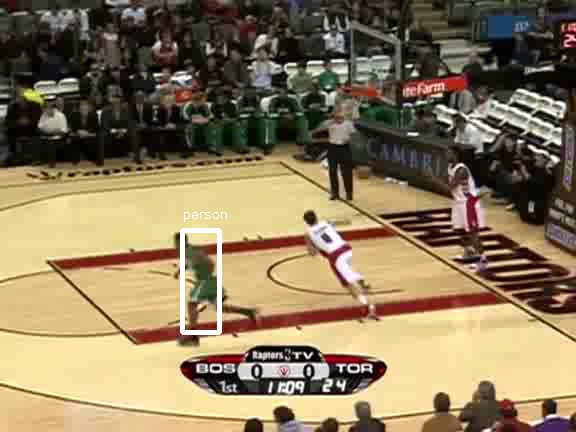person: (184, 238, 218, 319), (183, 238, 217, 319), (185, 238, 219, 319), (184, 237, 218, 318), (184, 239, 218, 320)
target_negative: (164, 222, 561, 341), (100, 345, 364, 416), (32, 362, 95, 429), (524, 18, 542, 191), (19, 47, 183, 48), (484, 322, 486, 388)
